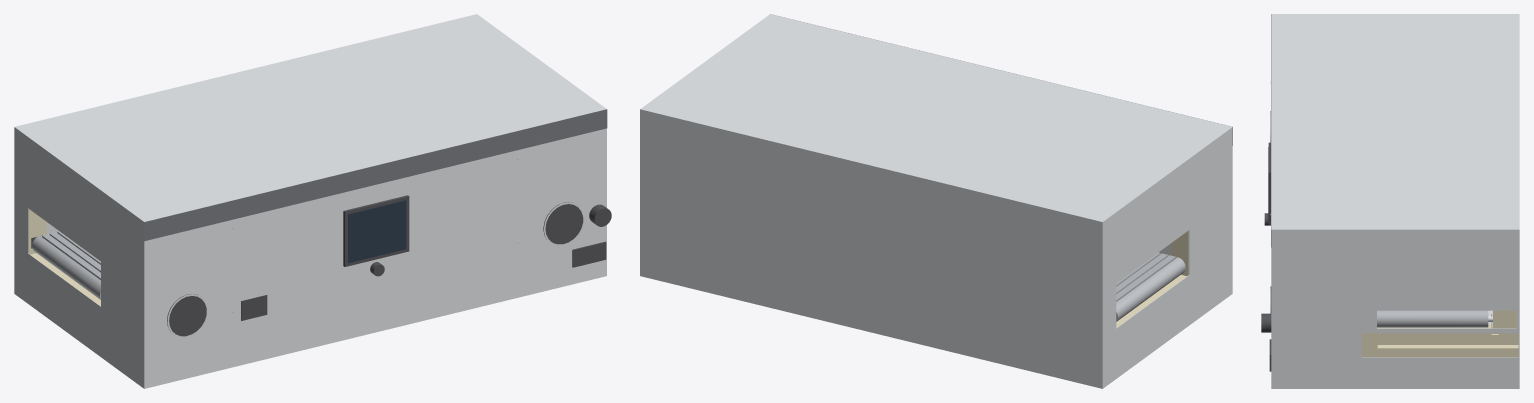
File: firin_tp10_v2.glb
3 renders of one model, left to right at view 1: azimuth 30°, elevation 25°; view 2: azimuth 150°, elevation 25°; view 3: azimuth 270°, elevation 25°, orthographic. The views are drawn at different scales.
Parts seen in each view (by area): view 1: TP10U__F_TP10_GOVDE__paslanmaz, TP10U__F_TP10_GOVDE__grafit, TP10U__F_TP10_GOVDE__koyu, TP10U__F_TP10_GOVDE__ekran, TP10U__F_TP10_KONVEYOR__tel_bant, TP10U__F_TP10_GOVDE__yalitim, TP10U__F_TP10_GOVDE__celik; view 2: TP10U__F_TP10_GOVDE__paslanmaz, TP10U__F_TP10_KONVEYOR__tel_bant, TP10U__F_TP10_GOVDE__yalitim; view 3: TP10U__F_TP10_GOVDE__paslanmaz, TP10U__F_TP10_GOVDE__yalitim, TP10U__F_TP10_KONVEYOR__tel_bant, TP10U__F_TP10_GOVDE__koyu, TP10U__F_TP10_GOVDE__grafit.
Part boxes in pixels (x1=…): TP10U__F_TP10_GOVDE__paslanmaz: x1=14, y1=14, x2=606, y2=388; TP10U__F_TP10_GOVDE__grafit: x1=144, y1=109, x2=607, y2=241; TP10U__F_TP10_GOVDE__koyu: x1=167, y1=195, x2=611, y2=336; TP10U__F_TP10_GOVDE__ekran: x1=348, y1=200, x2=406, y2=263; TP10U__F_TP10_KONVEYOR__tel_bant: x1=32, y1=231, x2=100, y2=299; TP10U__F_TP10_GOVDE__yalitim: x1=28, y1=208, x2=100, y2=305; TP10U__F_TP10_GOVDE__celik: x1=167, y1=157, x2=584, y2=337; TP10U__F_TP10_GOVDE__paslanmaz: x1=640, y1=14, x2=1232, y2=388; TP10U__F_TP10_KONVEYOR__tel_bant: x1=1116, y1=252, x2=1185, y2=321; TP10U__F_TP10_GOVDE__yalitim: x1=1116, y1=230, x2=1188, y2=327; TP10U__F_TP10_GOVDE__paslanmaz: x1=1271, y1=14, x2=1519, y2=388; TP10U__F_TP10_GOVDE__yalitim: x1=1361, y1=310, x2=1518, y2=357; TP10U__F_TP10_KONVEYOR__tel_bant: x1=1377, y1=310, x2=1488, y2=327; TP10U__F_TP10_GOVDE__koyu: x1=1261, y1=111, x2=1271, y2=371; TP10U__F_TP10_GOVDE__grafit: x1=1271, y1=14, x2=1271, y2=247.
Size of the model in its own units: 1.5 by 0.517 by 0.76.
